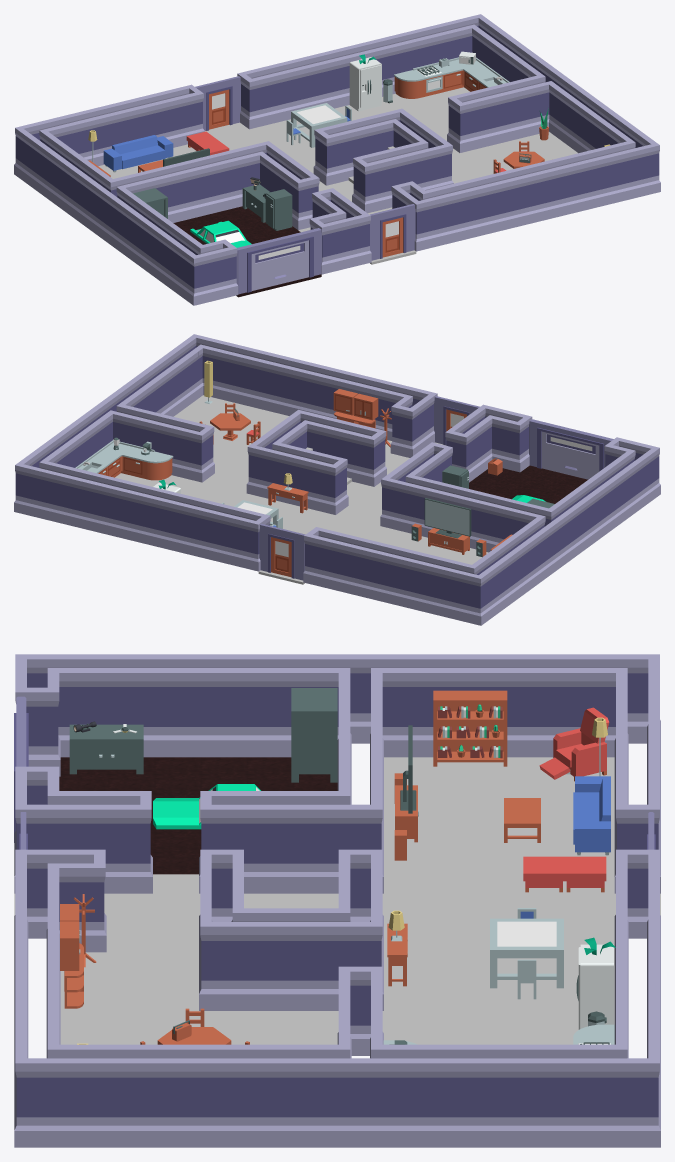
Rendered from House1-06-F1.dae.
3 views of the same model, one above another, from view 1: azimuth 30°, elevation 25°; view 2: azimuth 150°, elevation 25°; view 3: azimuth 270°, elevation 25° (orthographic). The views are drawn at different scales.
Parts seen in each view (by area): view 1: wall (×24), wall_corner (×20), porch_floorCenter (×3), doorway_wideGarage, doorway_doorWoodWindow (×2), loungeDesignSofa, kitchenFridgeLarge, tableCoffeeGlassSquare, kitchenFridge, HouseCarWhole, kitchenCabinetCornerRound, WorkDrawer2 (+5 smaller); view 2: wall (×24), wall_corner (×17), porch_floorCenter (×6), doorway_wideGarage, doorway_doorWoodWindow (×2), TVDrawer1, CabShelfRight, kitchenCabinetCornerRound, KitchCabCoffeeMachine, LampDrawer1, RadioTable, CabShelfLeft (+3 smaller); view 3: wall (×25), porch_floorCenter (×7), wall_corner (×24), Bookcase1, bookcaseClosedDoors, tableCoffeeGlassSquare, WorkDrawer1, loungeDesignSofa, loungeChairRelax, loungeSofaOttoman (×2), kitchenFridgeLarge, HouseCarWhole (+6 smaller).
Part boxes in pixels (x1=…): wall (×24): x1=22, y1=17, x2=651, y2=302; wall_corner (×20): x1=14, y1=76, x2=660, y2=305; porch_floorCenter (×3): x1=98, y1=87, x2=577, y2=244; doorway_wideGarage: x1=236, y1=228, x2=321, y2=294; doorway_doorWoodWindow (×2): x1=195, y1=76, x2=415, y2=260; loungeDesignSofa: x1=103, y1=135, x2=173, y2=172; kitchenFridgeLarge: x1=349, y1=57, x2=381, y2=111; tableCoffeeGlassSquare: x1=291, y1=103, x2=347, y2=147; kitchenFridge: x1=265, y1=189, x2=292, y2=230; HouseCarWhole: x1=190, y1=220, x2=251, y2=247; kitchenCabinetCornerRound: x1=394, y1=68, x2=425, y2=98; WorkDrawer2: x1=242, y1=177, x2=270, y2=222; wall (×24): x1=23, y1=337, x2=652, y2=622; wall_corner (×17): x1=14, y1=344, x2=660, y2=625; porch_floorCenter (×6): x1=115, y1=395, x2=587, y2=564; doorway_wideGarage: x1=529, y1=419, x2=613, y2=479; doorway_doorWoodWindow (×2): x1=259, y1=396, x2=479, y2=580; TVDrawer1: x1=424, y1=498, x2=471, y2=554; CabShelfRight: x1=351, y1=393, x2=378, y2=428; kitchenCabinetCornerRound: x1=141, y1=450, x2=173, y2=480; KitchCabCoffeeMachine: x1=122, y1=441, x2=153, y2=478; LampDrawer1: x1=267, y1=473, x2=308, y2=513; RadioTable: x1=210, y1=408, x2=250, y2=440; CabShelfLeft: x1=333, y1=389, x2=358, y2=422; wall (×25): x1=14, y1=654, x2=660, y2=1147; porch_floorCenter (×7): x1=14, y1=757, x2=614, y2=1044; wall_corner (×24): x1=14, y1=654, x2=660, y2=1147; Bookcase1: x1=433, y1=690, x2=507, y2=766; bookcaseClosedDoors: x1=291, y1=688, x2=337, y2=782; tableCoffeeGlassSquare: x1=490, y1=918, x2=563, y2=988; WorkDrawer1: x1=69, y1=721, x2=143, y2=774; loungeDesignSofa: x1=573, y1=776, x2=610, y2=855; loungeChairRelax: x1=539, y1=707, x2=609, y2=781; loungeSofaOttoman (×2): x1=523, y1=856, x2=606, y2=892; kitchenFridgeLarge: x1=576, y1=944, x2=613, y2=1029; HouseCarWhole: x1=153, y1=784, x2=260, y2=829.
Bounding box in the file's own units: 21 × 2.57 × 14.01.
